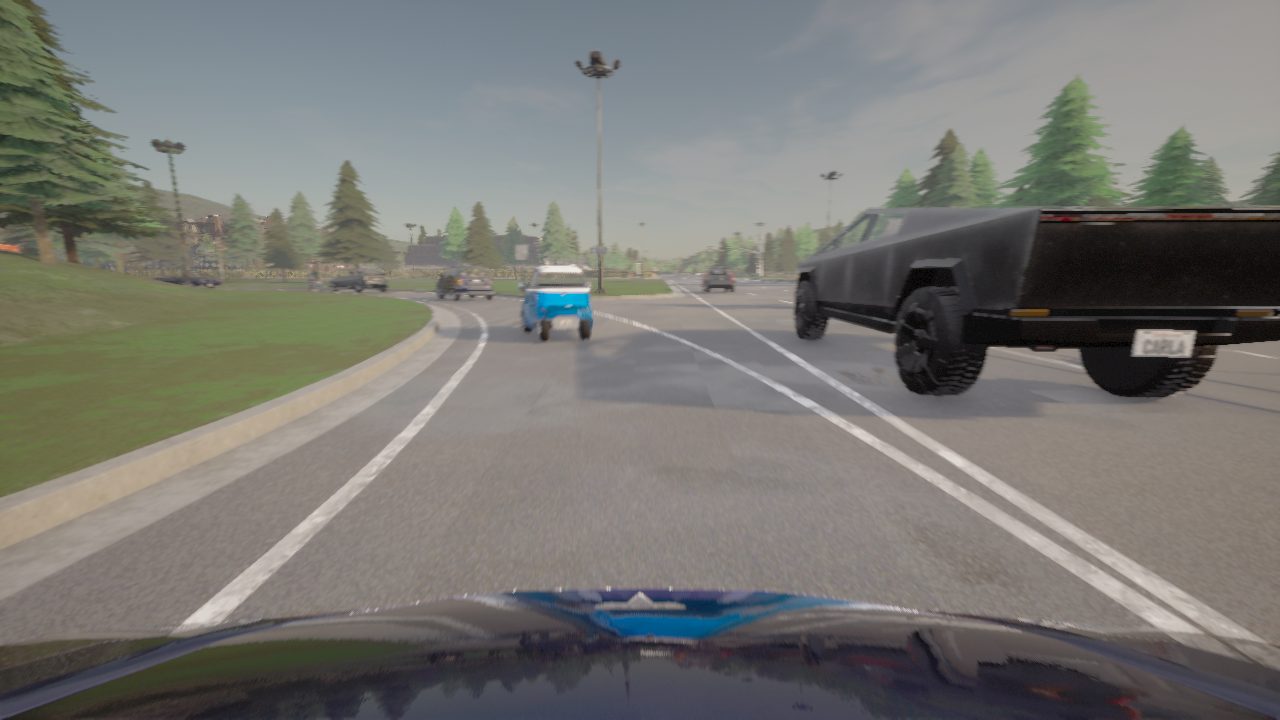cyclist: (0, 588, 1279, 719), (793, 206, 1279, 398), (518, 265, 592, 341), (436, 266, 493, 301), (328, 268, 388, 293), (146, 272, 221, 289), (702, 267, 734, 293), (306, 275, 324, 291)
